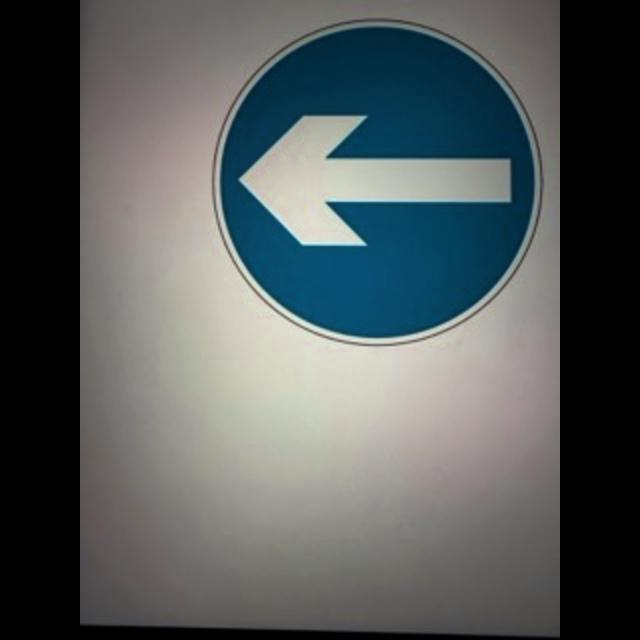TURN LEFT: (212, 14, 542, 348)
